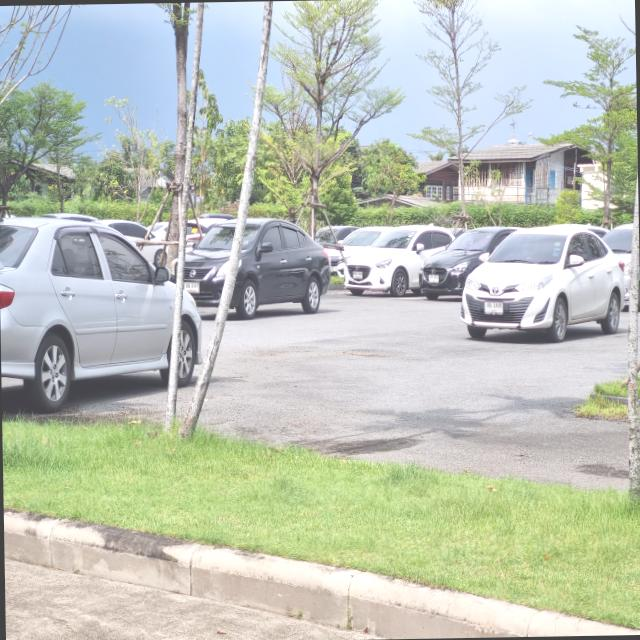license_plate: (484, 300, 504, 314), (182, 280, 200, 292), (428, 273, 439, 283), (352, 270, 362, 280)
